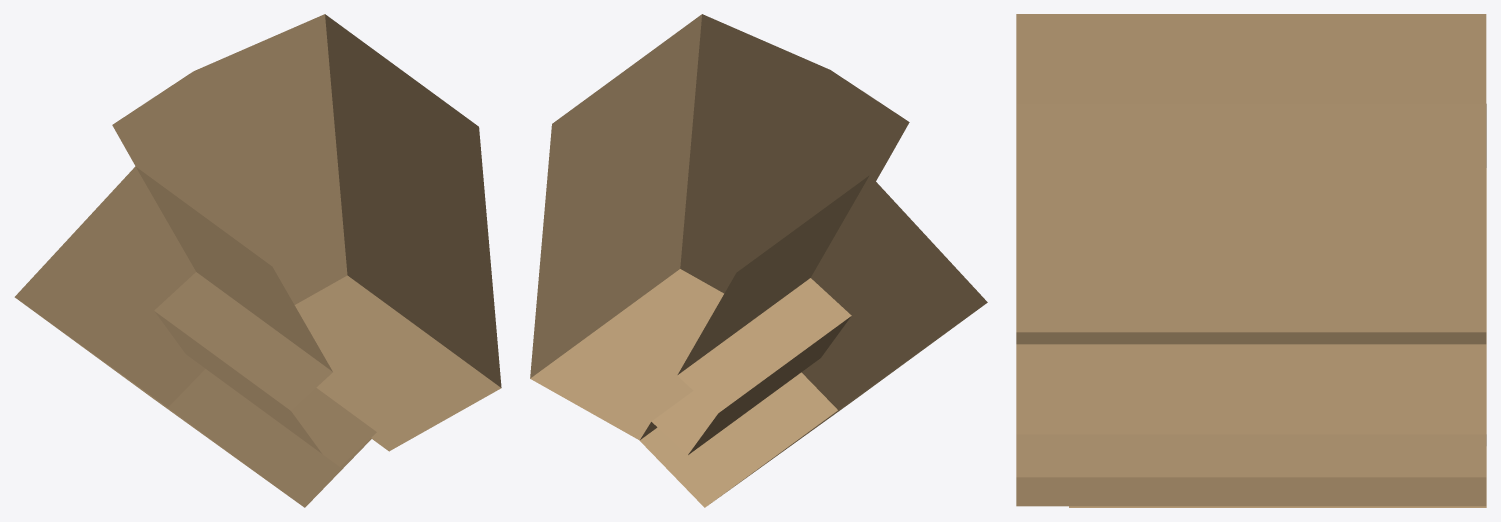
3 renders of one model, left to right at view 1: azimuth 30°, elevation 25°; view 2: azimuth 150°, elevation 25°; view 3: azimuth 270°, elevation 25°, orthographic. The views are drawn at different scales.
Visible parts, largest first — view 1: 0_3_2_0_2_0_0_2_3; view 2: 0_3_2_0_2_0_0_2_3; view 3: 0_3_2_0_2_0_0_2_3.
Part boxes in pixels (x1=…): 0_3_2_0_2_0_0_2_3: x1=14, y1=14, x2=501, y2=507; 0_3_2_0_2_0_0_2_3: x1=530, y1=14, x2=987, y2=507; 0_3_2_0_2_0_0_2_3: x1=1016, y1=14, x2=1486, y2=507.
Size of the model in its own units: 33.68 by 34.38 by 27.03.
